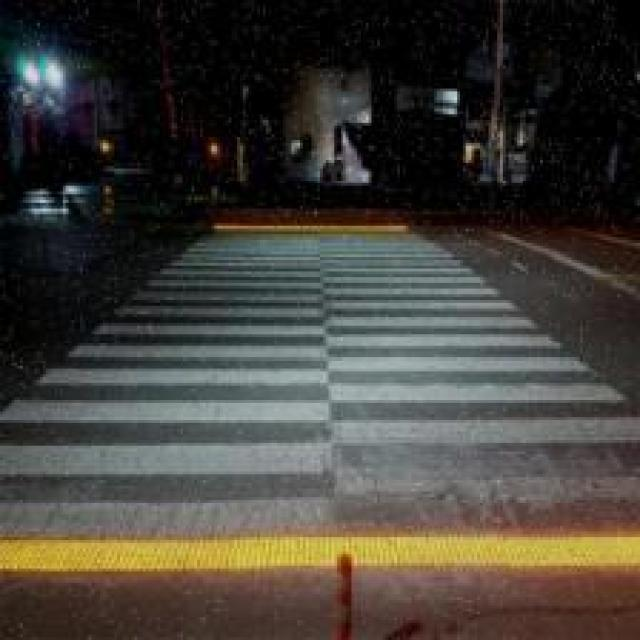zebra: (0, 226, 640, 538)
